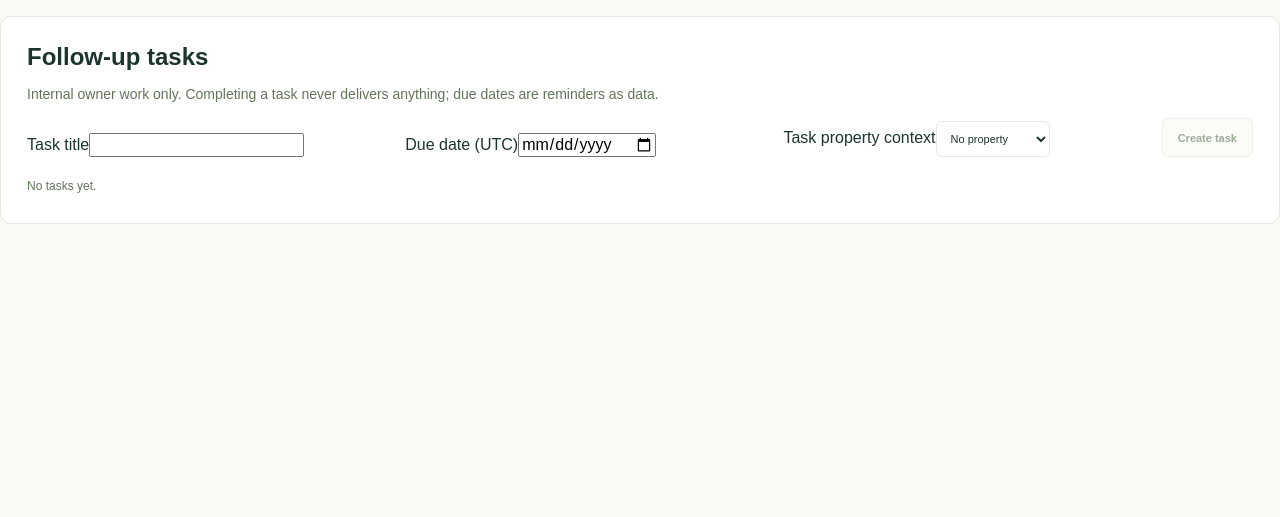
it: creates a task with explicit null property and due date
Type "Call buyer about Whitefield" into the field labelled "Task title" at (197, 145), box [89, 133, 304, 157]
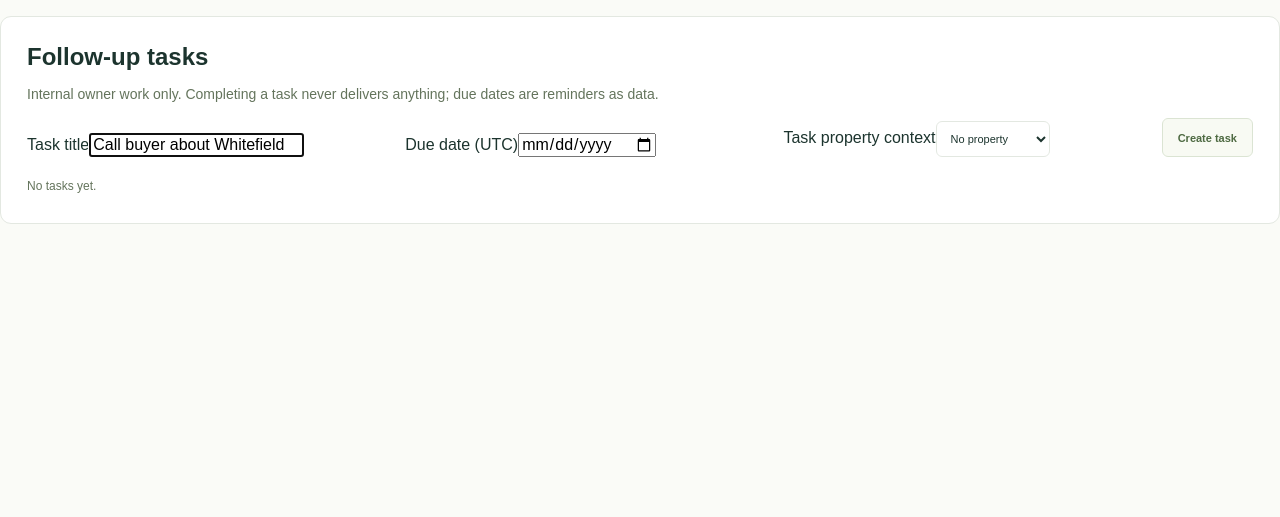
Click the button "Create task" at (1207, 138), box [1162, 118, 1253, 157]
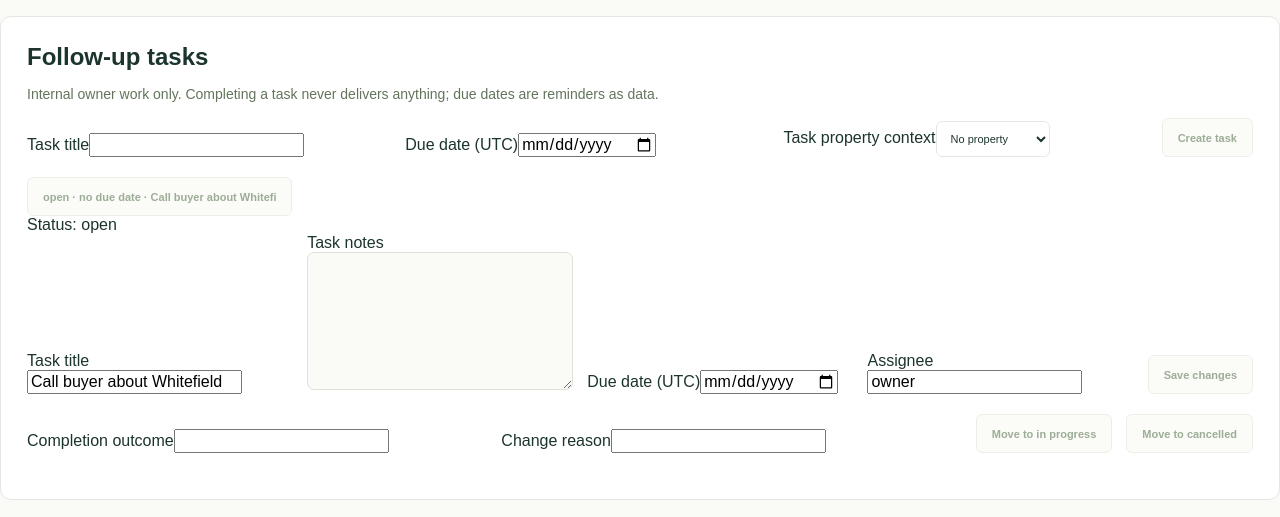
Expected: the text "Status: open" is shown, [27, 216, 117, 233]
